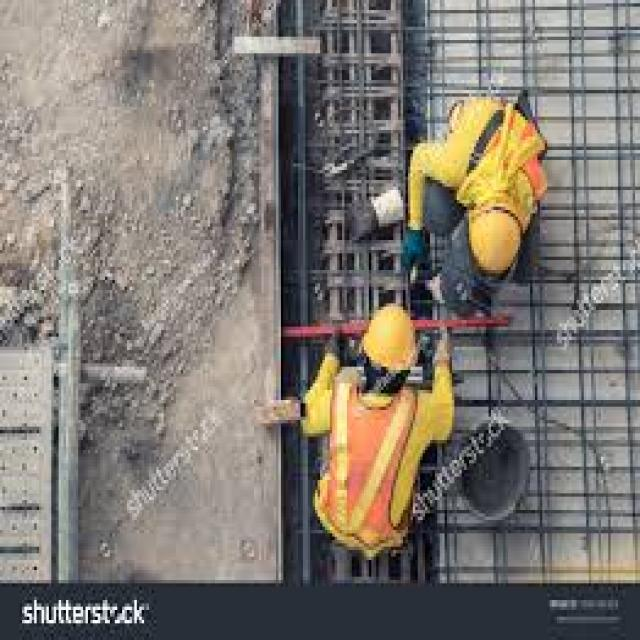Reflective-Jacket: (315, 377, 442, 550)
Safety-Helmet: (352, 293, 427, 387), (457, 196, 532, 286)
